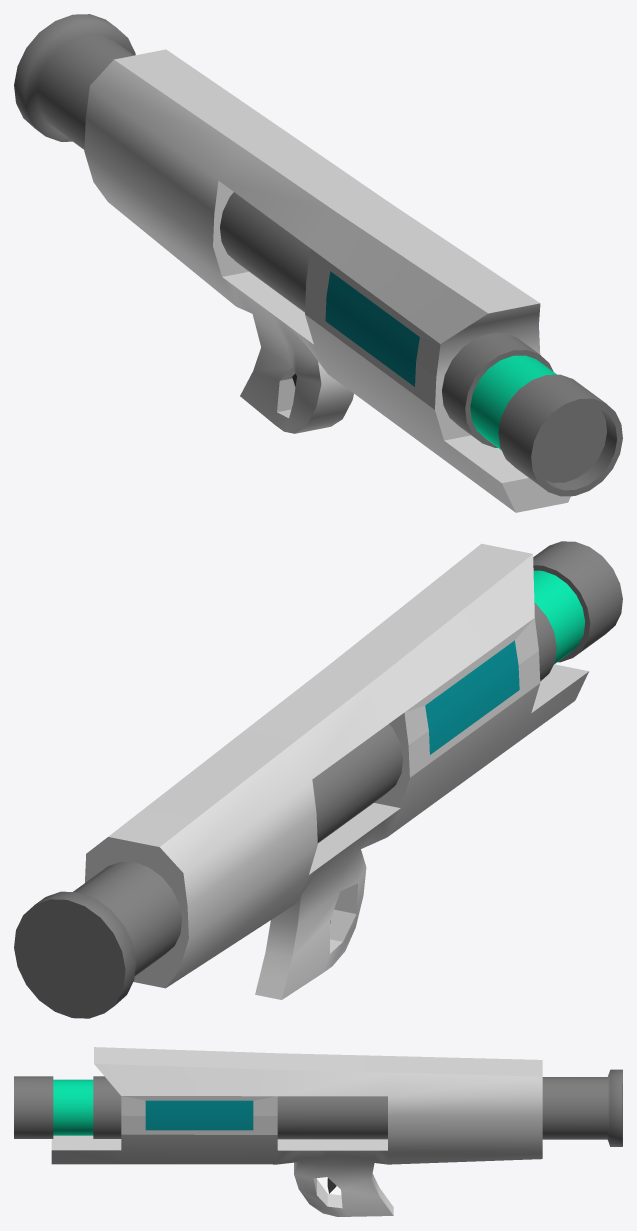
Rendered from TechnoRaketenWerfer.fbx.
3 views of the same model, one above another, from view 1: azimuth 30°, elevation 25°; view 2: azimuth 150°, elevation 25°; view 3: azimuth 270°, elevation 25° (orthographic). The views are drawn at different scales.
Visible parts, largest first — view 1: RacketenWerfer4, pasted__pCylinder1; view 2: RacketenWerfer4, pasted__pCylinder1; view 3: RacketenWerfer4, pasted__pCylinder1.
Boxes of the visible parts, <box> form: RacketenWerfer4: <box>84,49,570,512</box>; pasted__pCylinder1: <box>14,14,622,496</box>; RacketenWerfer4: <box>85,543,588,999</box>; pasted__pCylinder1: <box>14,541,622,1018</box>; RacketenWerfer4: <box>51,1047,542,1216</box>; pasted__pCylinder1: <box>14,1069,622,1146</box>.
Bounding box in the file's own units: 0.679 × 1.54 × 5.31.
